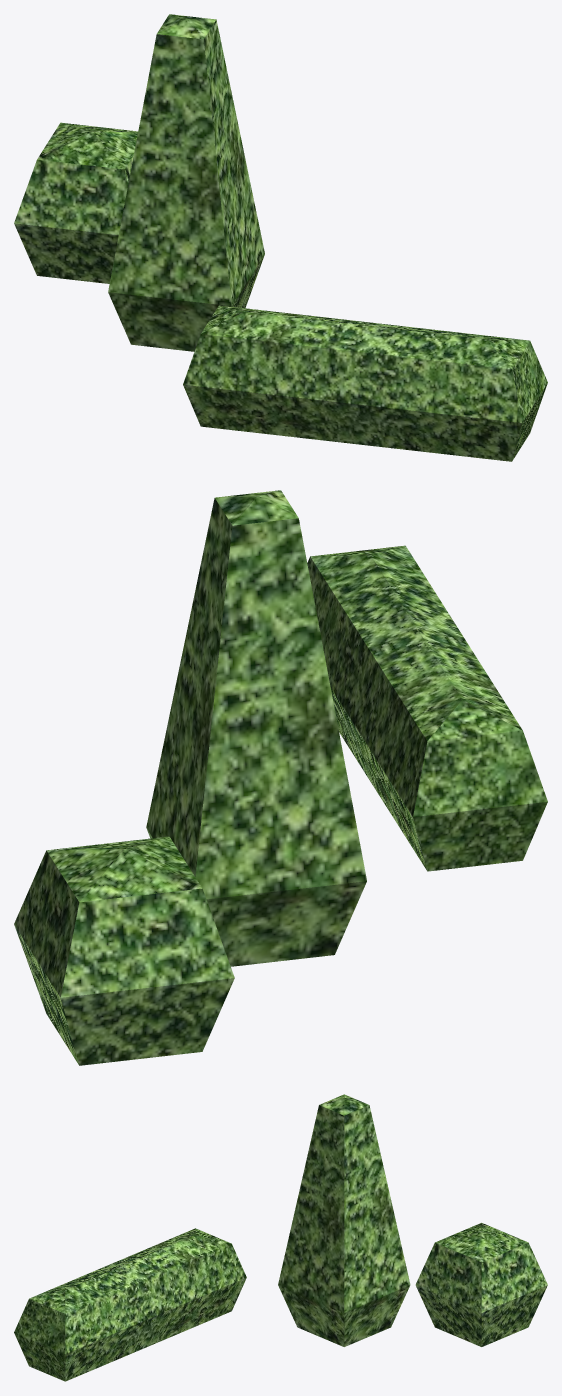
Rendered from hedges.glb.
The picture shows the model from 3 angles, top to bottom: view 1: azimuth 30°, elevation 25°; view 2: azimuth 150°, elevation 25°; view 3: azimuth 270°, elevation 25°; orthographic projection. The views are drawn at different scales.
Visible parts, largest first — view 1: long_bush, stretchy_bush, bush; view 2: stretchy_bush, long_bush, bush; view 3: stretchy_bush, long_bush, bush.
Boxes of the visible parts, box(x1,y1,x2,y2) form: long_bush: box(183, 305, 547, 461); stretchy_bush: box(108, 14, 264, 351); bush: box(14, 122, 138, 283); stretchy_bush: box(146, 490, 366, 966); long_bush: box(307, 545, 547, 871); bush: box(14, 836, 234, 1065); stretchy_bush: box(278, 1094, 410, 1346); long_bush: box(14, 1228, 246, 1381); bush: box(415, 1222, 547, 1346).
Bounding box in the file's own units: 2.43 × 2.63 × 5.58.
Materials: 3 (3 with a texture image).
